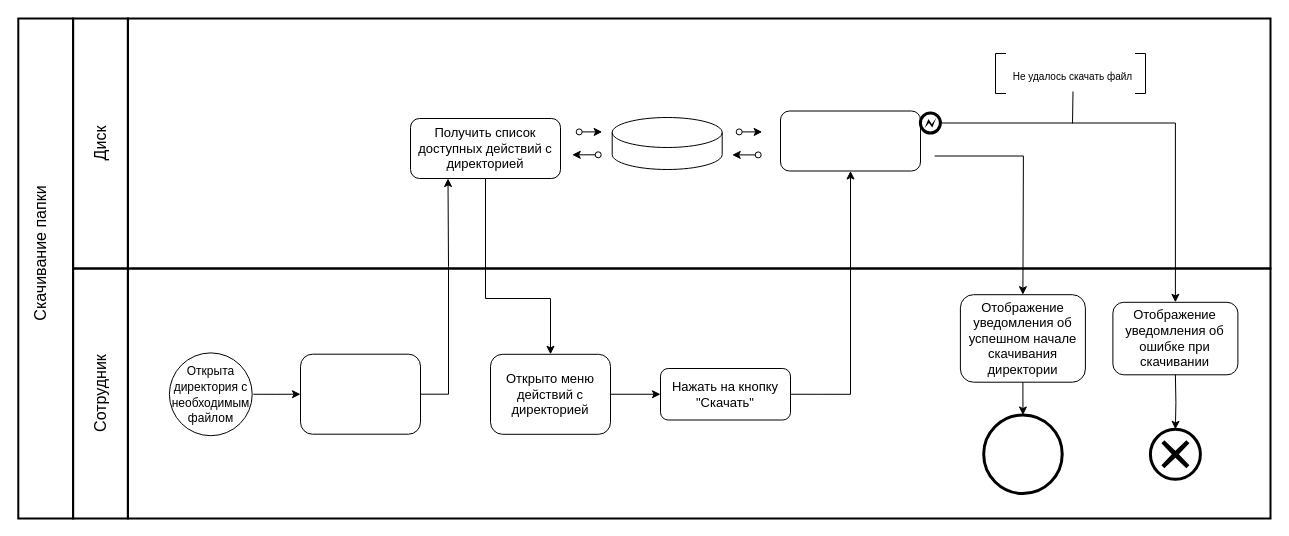
The diagram is 1289 pixels wide and 536 high, and some of its shapes have lost their labels. Here are the shapes that lost their labels. From the top down, the centre of each, then its label:
At [666,143]: "БД Облака".
At [850,140]: "Скачивание директории".
At [360,393]: "Нажать на иконку рядом с папкой, чтобы открыть меню".
At [1022,453]: "Директория скачана".
